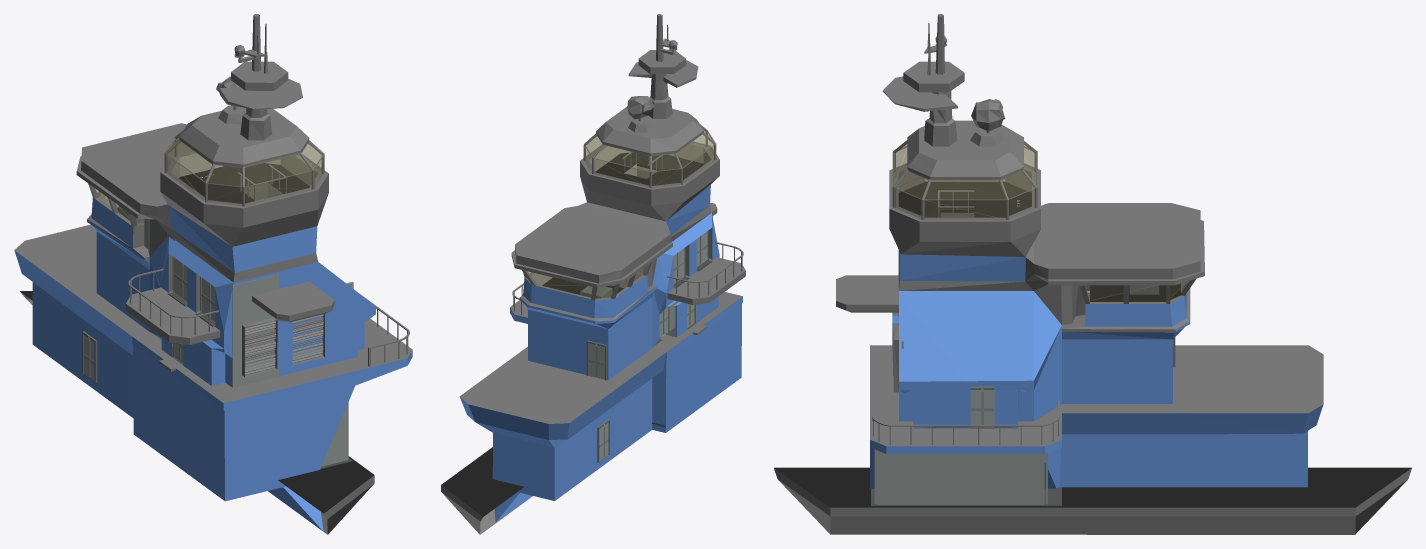
File: CarrierIsland.glb
3 renders of one model, left to right at view 1: azimuth 30°, elevation 25°; view 2: azimuth 150°, elevation 25°; view 3: azimuth 270°, elevation 25°, orthographic. The views are drawn at different scales.
Visible parts, largest first — view 1: superstructure main island, Island | laminated plate glass, Stair compartment | aft wall, superstructure floor upper, 00 | aft end lining; view 2: superstructure main island, Island | laminated plate glass, superstructure floor upper, superstructure floor lower; view 3: superstructure main island, 00 | starboard service lining, Island | laminated plate glass, superstructure floor upper, superstructure floor lower.
Boxes of the visible parts, <box> form: superstructure main island: <box>14,14,412,534</box>; Island | laminated plate glass: <box>95,132,324,226</box>; Stair compartment | aft wall: <box>232,274,279,387</box>; superstructure floor upper: <box>179,163,309,203</box>; 00 | aft end lining: <box>321,404,347,466</box>; superstructure main island: <box>441,14,745,534</box>; Island | laminated plate glass: <box>526,126,715,298</box>; superstructure floor upper: <box>596,152,703,185</box>; superstructure floor lower: <box>542,277,623,294</box>; superstructure main island: <box>774,14,1411,534</box>; 00 | starboard service lining: <box>876,450,1044,504</box>; Island | laminated plate glass: <box>892,141,1191,301</box>; superstructure floor upper: <box>898,181,1031,217</box>; superstructure floor lower: <box>1090,283,1180,301</box>.
Bounding box in the file's own units: 12.53 × 25.78 × 29.21.
